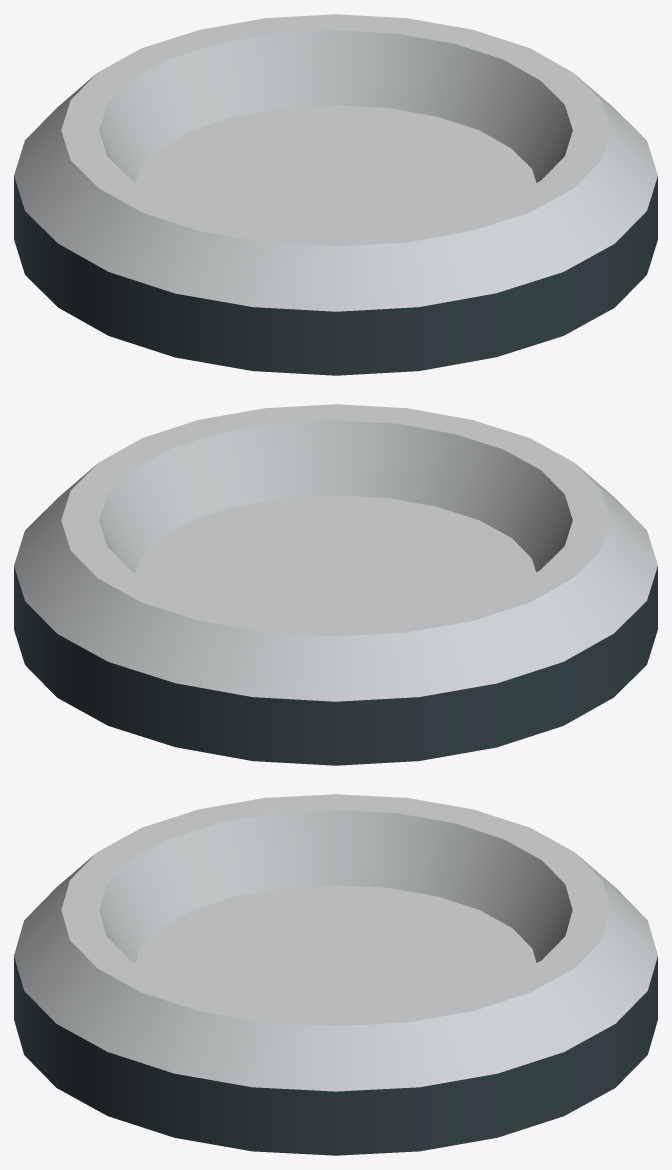
Rendered from Turret_007.fbx.
The picture shows the model from 3 angles, top to bottom: view 1: azimuth 30°, elevation 25°; view 2: azimuth 150°, elevation 25°; view 3: azimuth 270°, elevation 25°; orthographic projection.
Parts seen in each view (by area): view 1: Turret_007; view 2: Turret_007; view 3: Turret_007.
Part boxes in pixels (left/top/right/bottom): Turret_007: left=14, top=14, right=657, bottom=375; Turret_007: left=14, top=404, right=657, bottom=765; Turret_007: left=14, top=794, right=657, bottom=1155.
Bounding box in the file's own units: 91.69 × 91.76 × 17.21.
